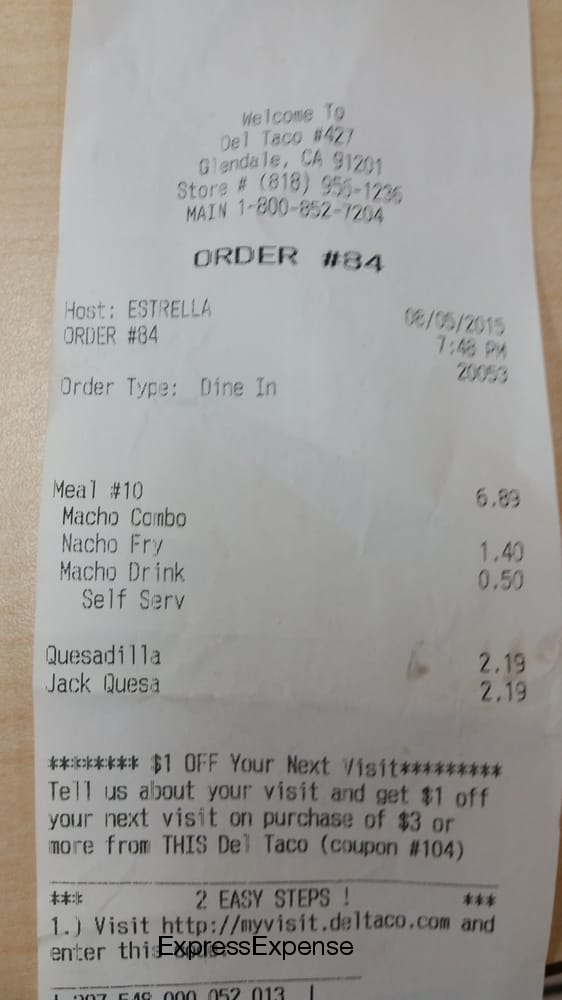Additional details: (32, 737, 549, 1000)
Purchase summary: (43, 225, 562, 736)
Receipt: (25, 3, 561, 997)
Shop details: (83, 93, 518, 236)
